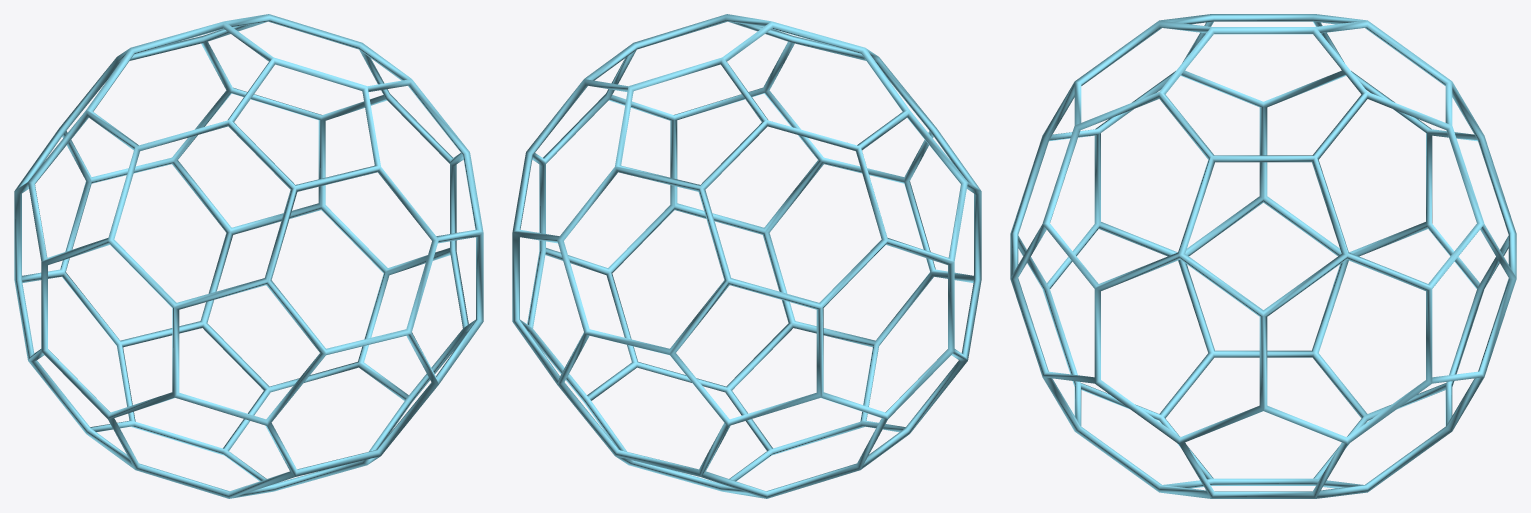
Rendered from TruncatedIcosahedron2.glb.
3 views of the same model, side by side, from view 1: azimuth 30°, elevation 25°; view 2: azimuth 150°, elevation 25°; view 3: azimuth 270°, elevation 25° (orthographic). The views are drawn at different scales.
Parts seen in each view (by area): view 1: TruncatedIcosahedron; view 2: TruncatedIcosahedron; view 3: TruncatedIcosahedron.
Part boxes in pixels (bbox=[...]): TruncatedIcosahedron: bbox=[14, 14, 483, 498]; TruncatedIcosahedron: bbox=[512, 14, 981, 498]; TruncatedIcosahedron: bbox=[1010, 14, 1516, 498].
Size of the model in its own units: 4.93 by 4.93 by 4.93.
